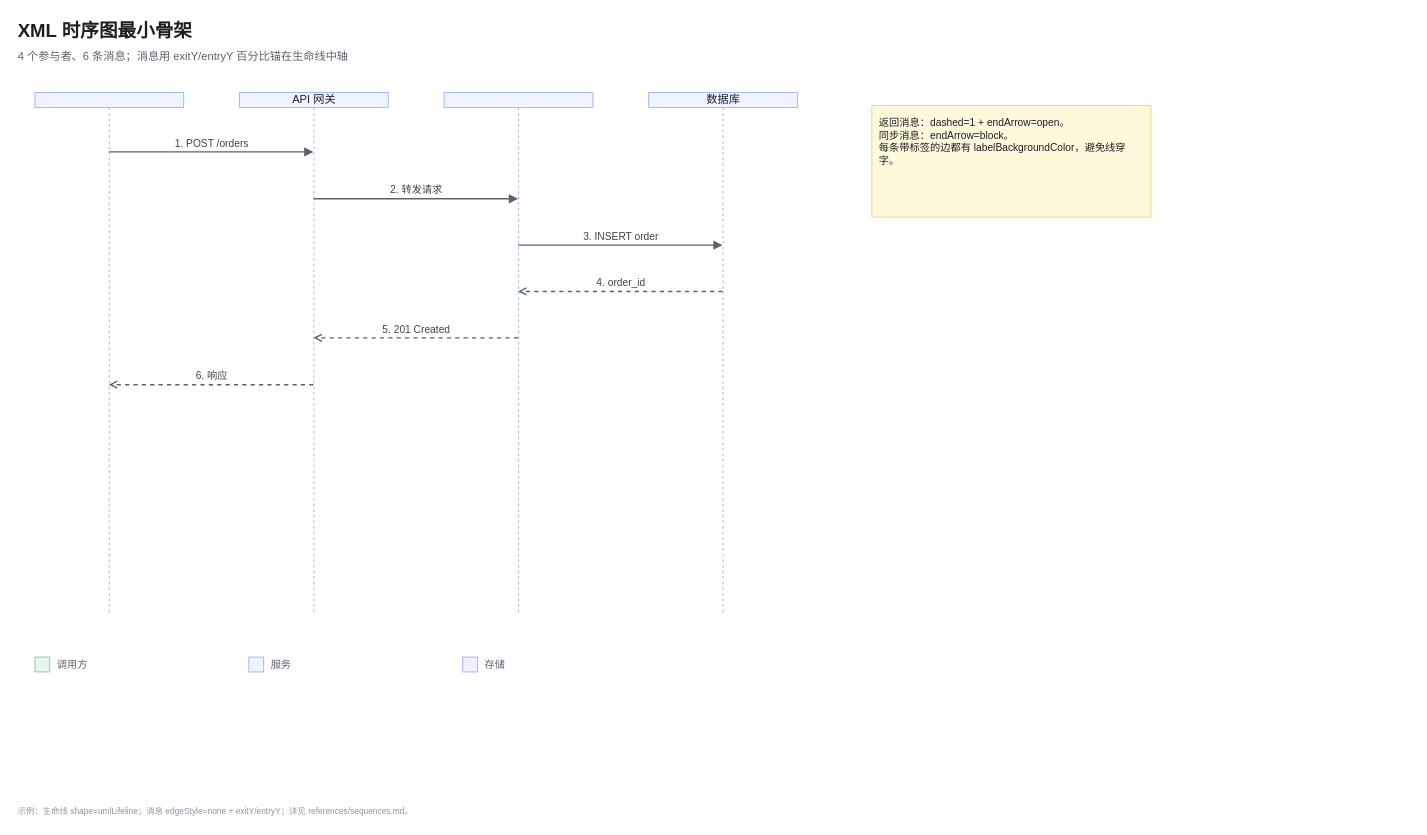
Some shapes in this 1427 by 835 pixel diagram are drawn without their labels. The box of each missing label's shape, as (x1, y1, x2, y2) in pixels:
客户端: (34, 92, 184, 613)
订单服务: (443, 92, 593, 613)
